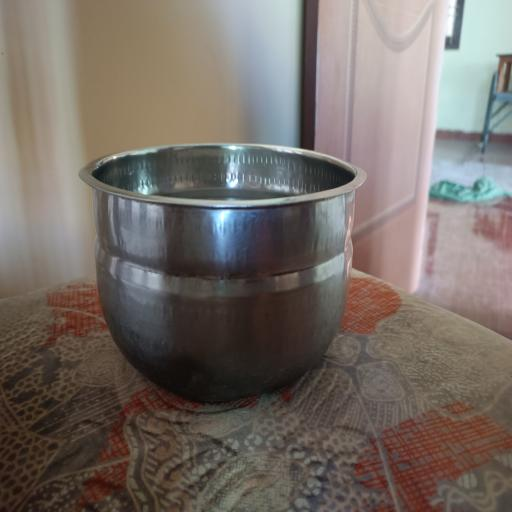vessel: (80, 144, 365, 401)
